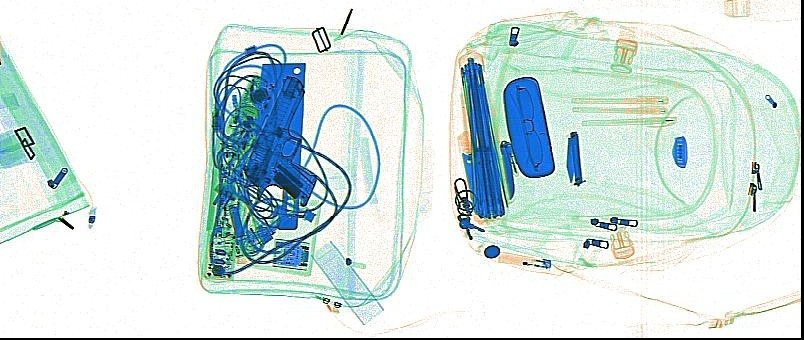knife: (253, 61, 307, 230), (456, 128, 479, 215), (496, 138, 518, 200), (563, 130, 584, 185)
lighter: (496, 249, 551, 271)
